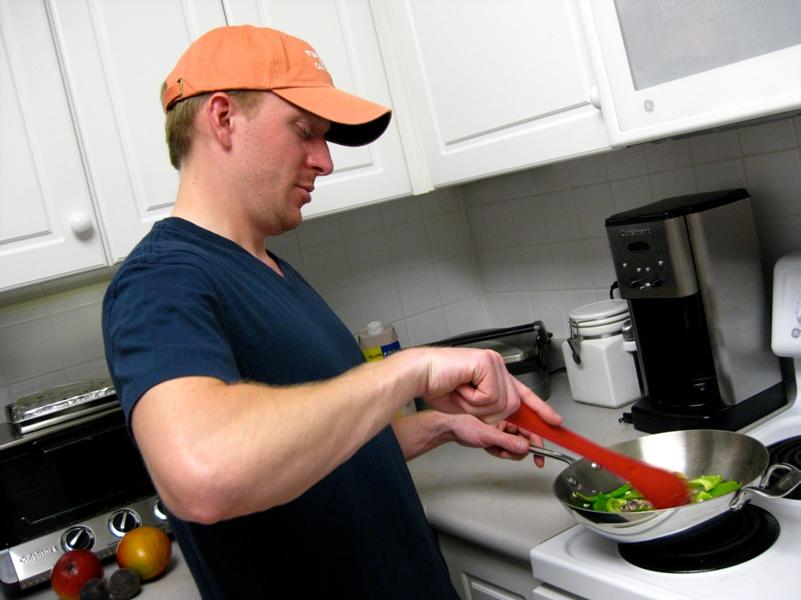person: (101, 28, 564, 600)
